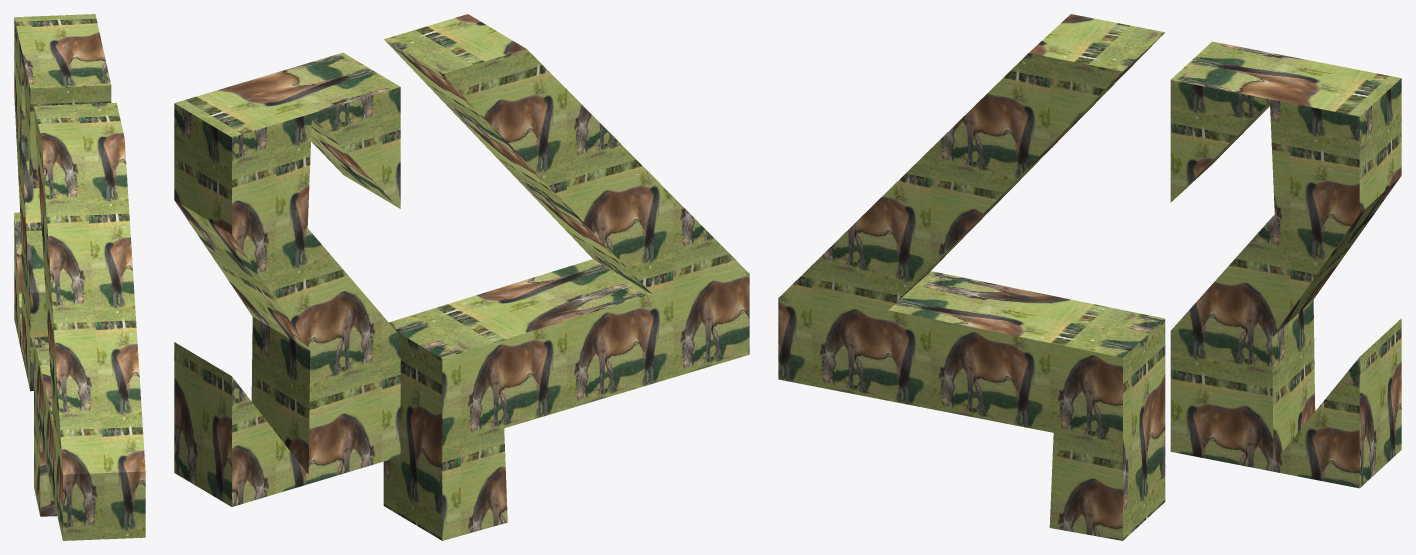
The model's file is 42_texture.obj.
The picture shows the model from 3 angles, left to right: view 1: azimuth 30°, elevation 25°; view 2: azimuth 150°, elevation 25°; view 3: azimuth 270°, elevation 25°; orthographic projection. The views are drawn at different scales.
Visible parts, largest first — view 1: Cube.001; view 2: Cube.001; view 3: Cube.001.
Part boxes in pixels (box(x1,y1,x2,y2)): Cube.001: box(14, 14, 145, 540); Cube.001: box(174, 14, 749, 540); Cube.001: box(778, 14, 1401, 540).
Size of the model in its own units: 1.61 by 2.34 by 2.81.
